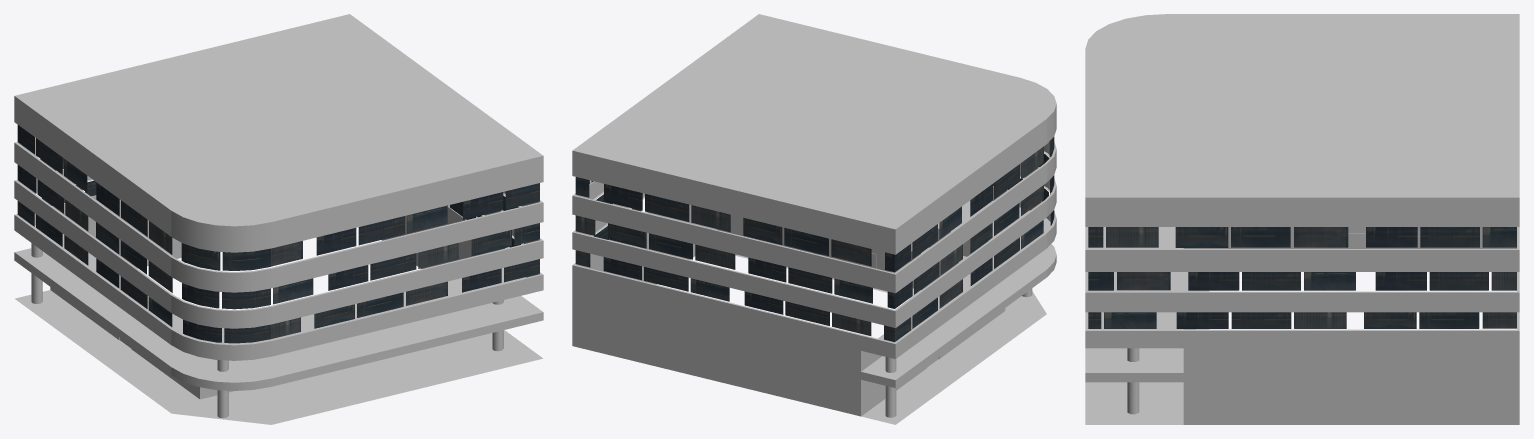
3 renders of one model, left to right at view 1: azimuth 30°, elevation 25°; view 2: azimuth 150°, elevation 25°; view 3: azimuth 270°, elevation 25°, orthographic. The views are drawn at different scales.
Visible parts, largest first — view 1: EB-005; view 2: EB-005; view 3: EB-005.
Boxes of the visible parts, x1,y1,x2,y2 form: EB-005: (14,14,543,424); EB-005: (572,14,1056,424); EB-005: (1085,14,1519,424).
Size of what is drawn, in the model's own units: 36 by 20.8 by 36.
